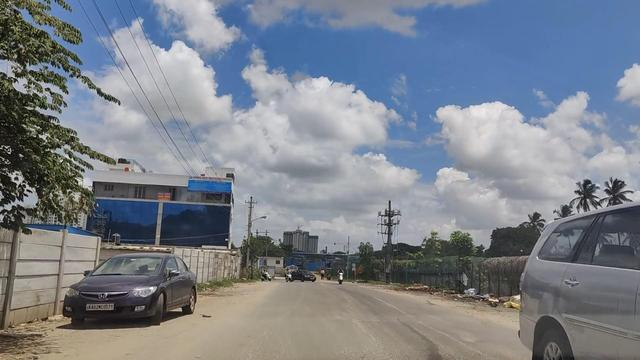LMV: (57, 239, 200, 331)
RoadDamages: (336, 314, 484, 360)
UnsurfacedRoad: (28, 319, 196, 360), (242, 318, 326, 360)
